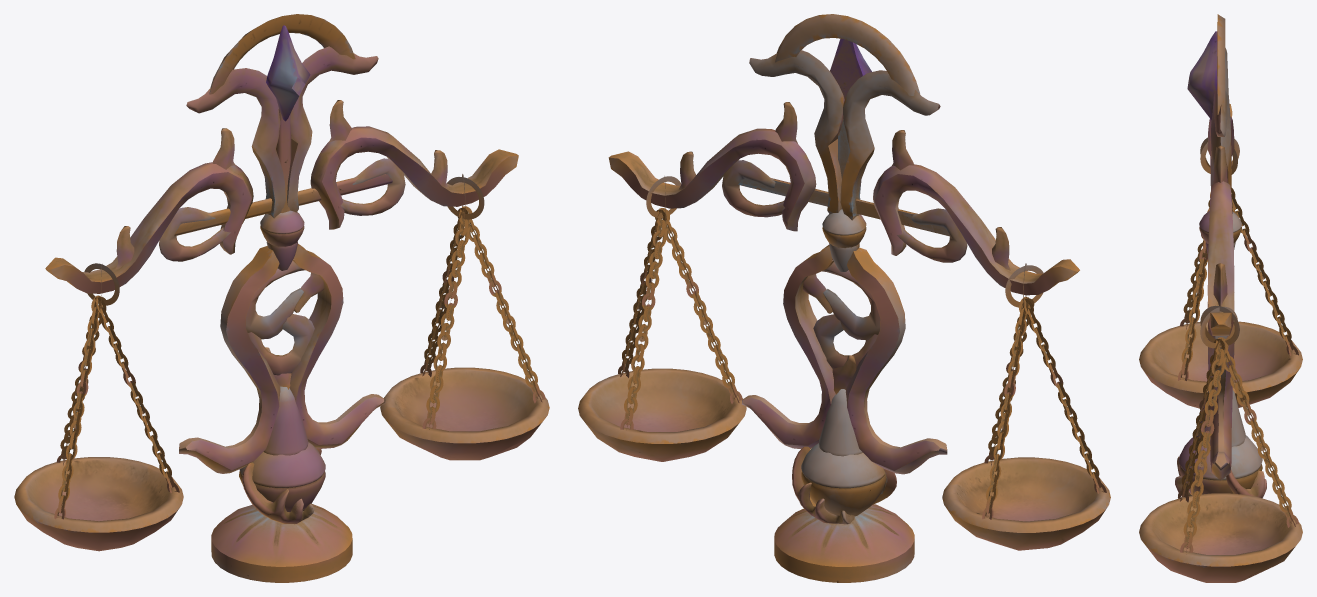
File: SM_Potion_Props_Libra_01.fbx
The picture shows the model from 3 angles, left to right: view 1: azimuth 30°, elevation 25°; view 2: azimuth 150°, elevation 25°; view 3: azimuth 270°, elevation 25°; orthographic projection. The views are drawn at different scales.
Parts seen in each view (by area): view 1: SM_Potion_Props_Libra_01_LOD0; view 2: SM_Potion_Props_Libra_01_LOD0; view 3: SM_Potion_Props_Libra_01_LOD0.
Boxes of the visible parts, x1=… form: SM_Potion_Props_Libra_01_LOD0: x1=14, y1=14, x2=549, y2=582; SM_Potion_Props_Libra_01_LOD0: x1=578, y1=14, x2=1110, y2=582; SM_Potion_Props_Libra_01_LOD0: x1=1139, y1=14, x2=1302, y2=582.
Size of what is drawn, in the model's own units: 55.5 by 55.81 by 15.92.
